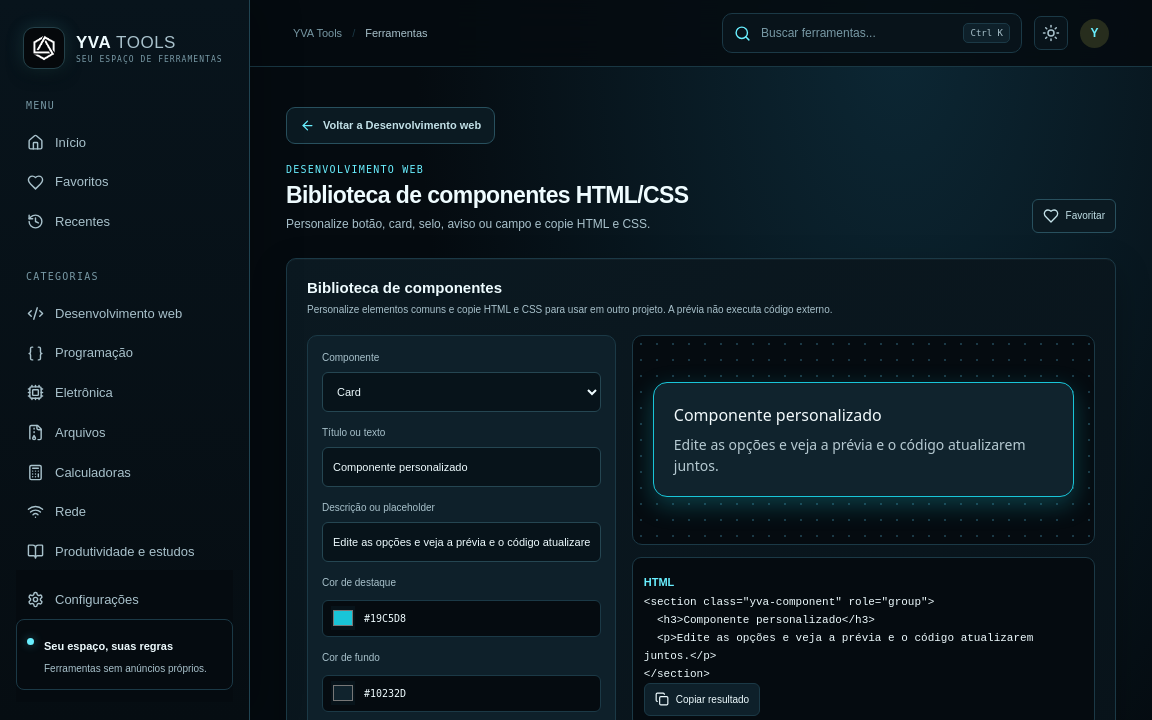
it: Parte 3: ferramentas prioritárias › oferece controles de formulário e barra de progresso com marcação acessível
Select "Seletor" in the dropdown named "Tipo de componente": (461, 392) [322,372,601,412]
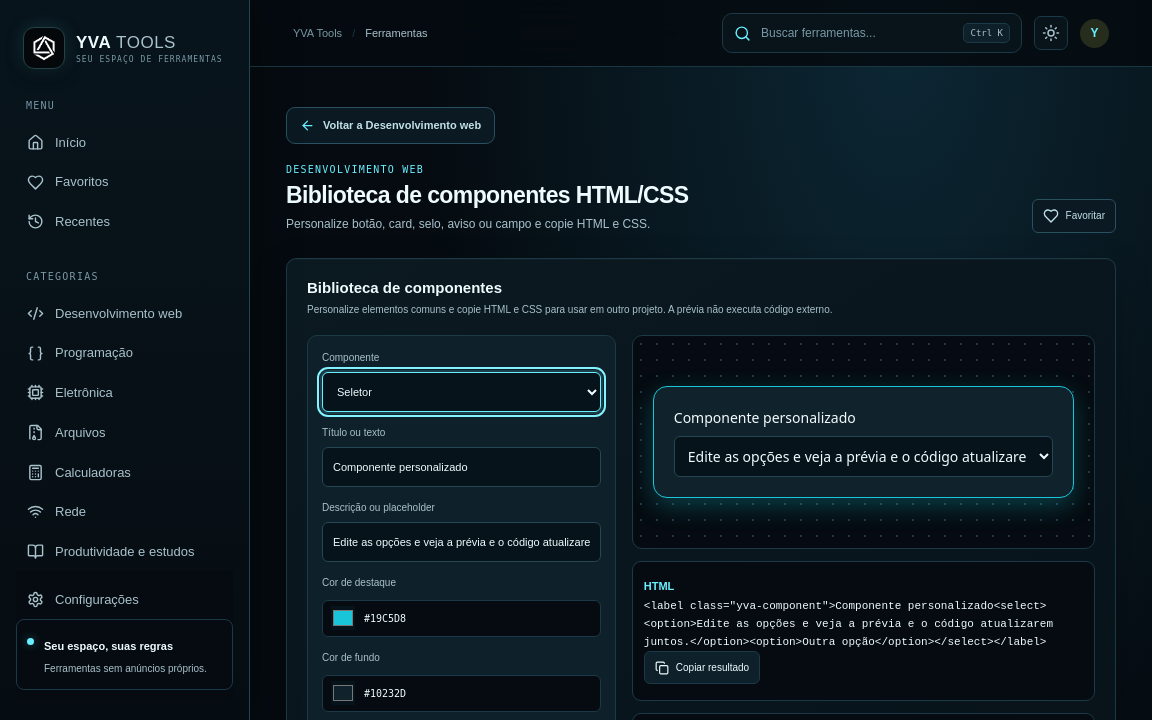
Select "Área de texto" in the dropdown named "Tipo de componente": (461, 392) [322,372,601,412]
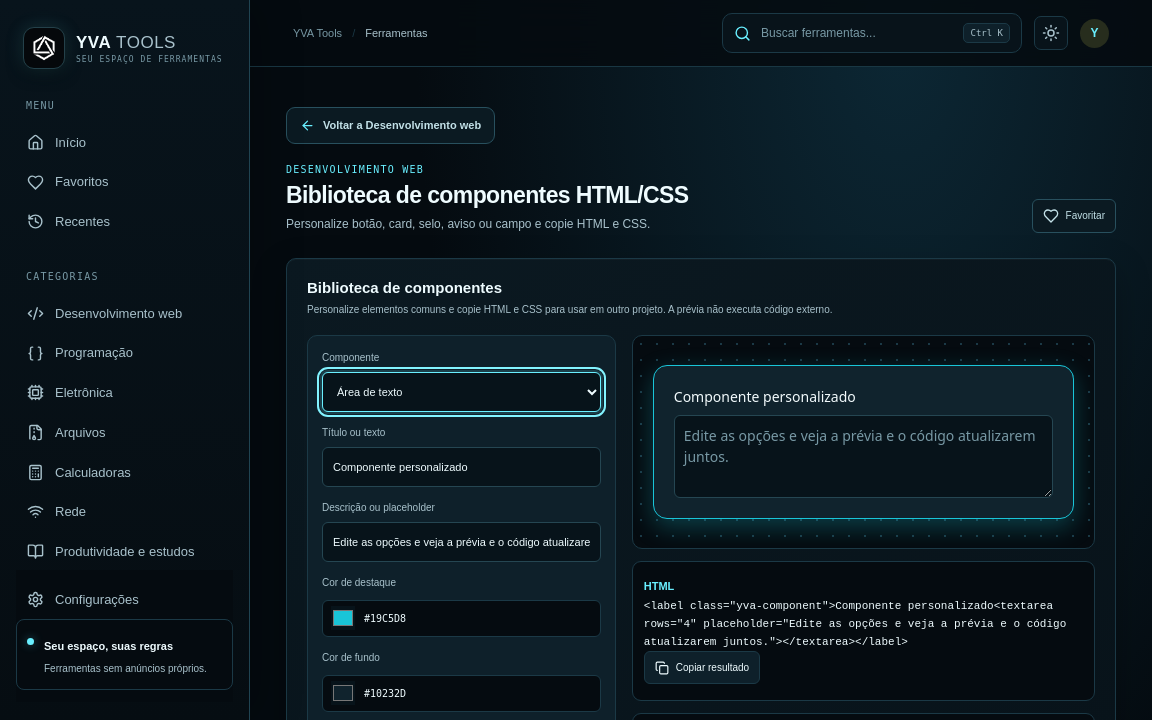
Select "Checkbox" in the dropdown named "Tipo de componente": (461, 392) [322,372,601,412]
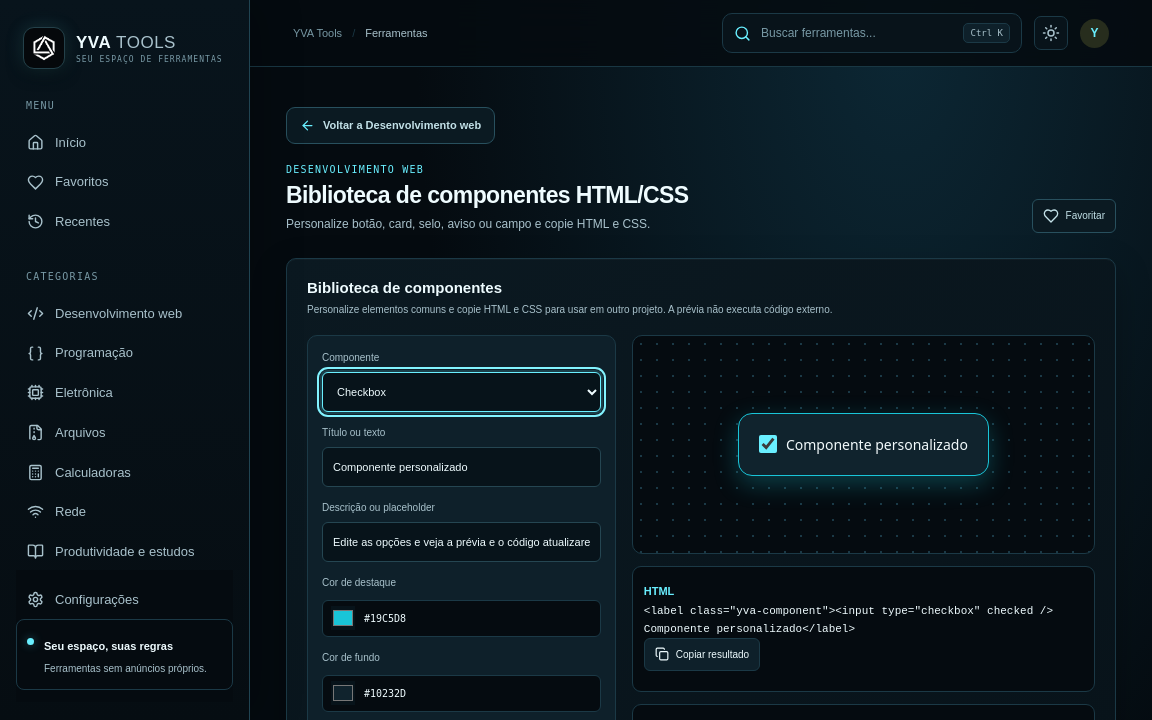
Check: the text "type=\"checkbox\"" is shown, box [644,605,1060,635]
Select "Switch" in the dropdown named "Tipo de componente": (461, 392) [322,372,601,412]
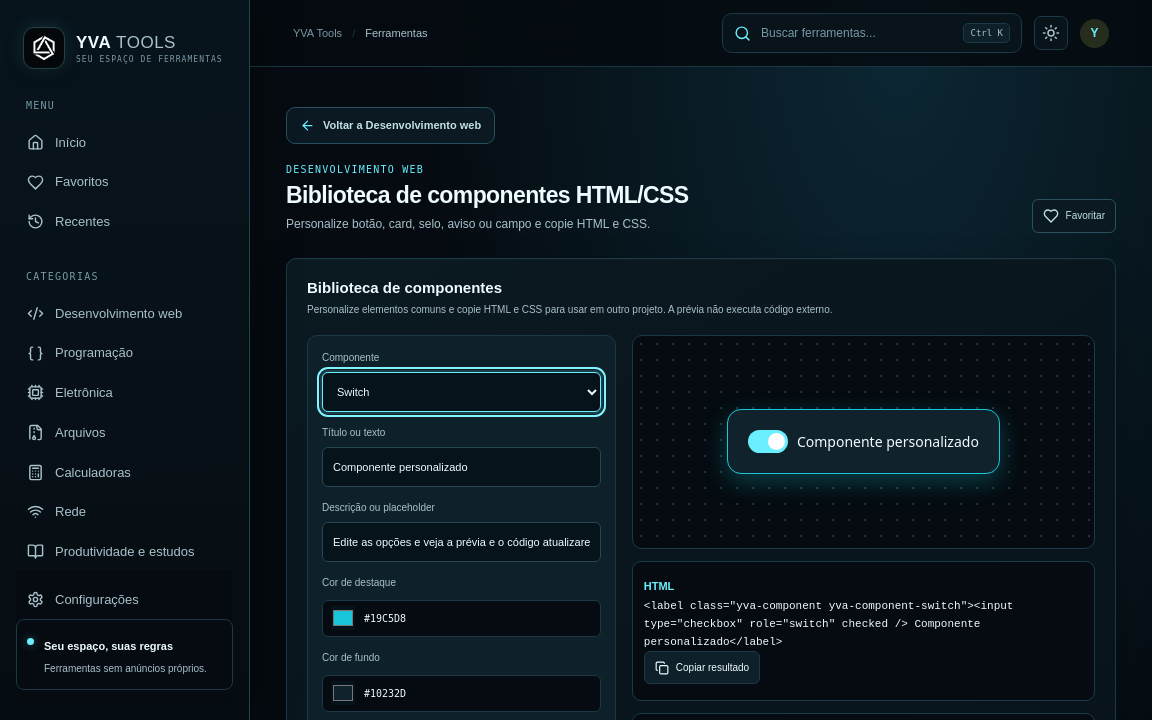
Check: the text "role=\"switch\"" is shown, box [644,600,1020,648]
Select "Barra de progresso" in the dropdown named "Tipo de componente": (461, 392) [322,372,601,412]
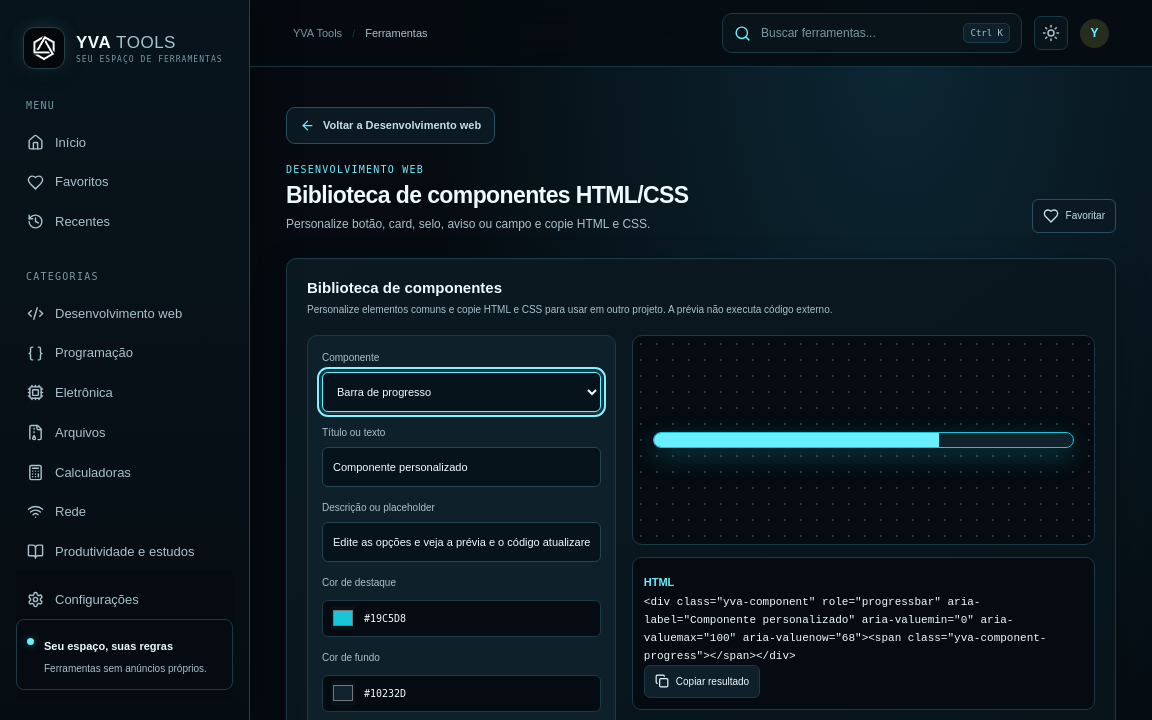
Check: the text "role=\"progressbar\"" is shown, box [644,596,1046,662]
Check: the progress indicator named "Componente personalizado" is shown, box [653,432,1074,448]
